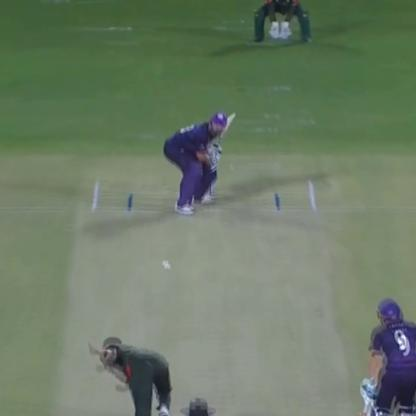ball: (162, 262, 173, 273), (162, 259, 171, 266)
bat: (212, 112, 235, 155), (353, 380, 379, 416)
pitch: (53, 186, 362, 416)
